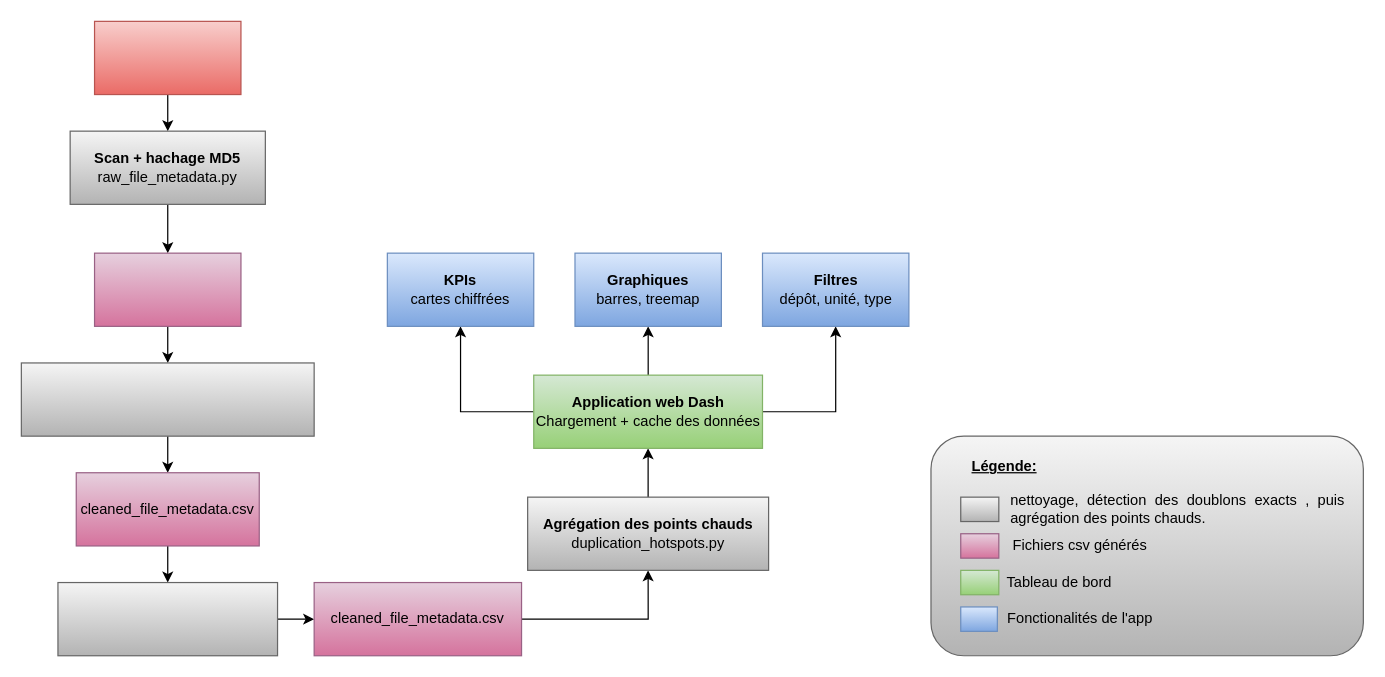
Image size: 1385x677. Some labels were removed from this diagram. The shapes that lost their labels are listed below. From the top down, each one's centre as x and y in pixels, then its label:
At [167,57]: "Espace de stockage".
At [167,289]: "raw_file_metadata.csv".
At [167,399]: "Nettoyage + feature enginnering cleaned_file_metadata.py".
At [167,618]: "Détection des doublons exacts exact_duplicates_flagged.py".
